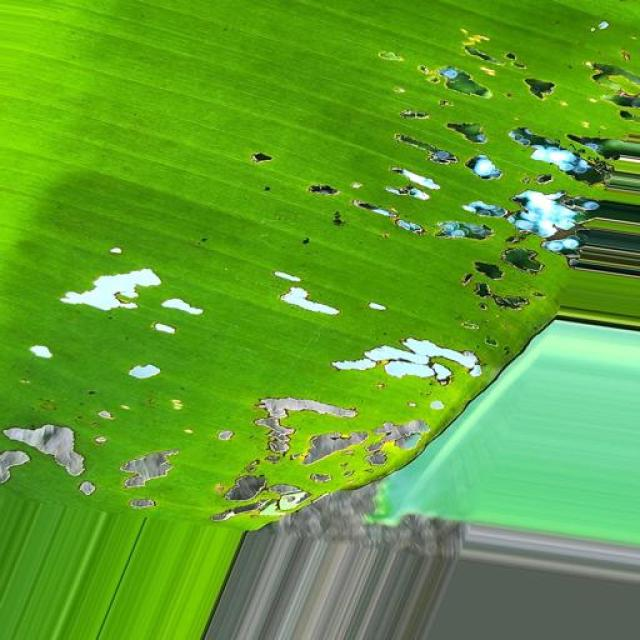Black_rot: (3, 238, 502, 570), (347, 0, 640, 322), (198, 132, 350, 256)
